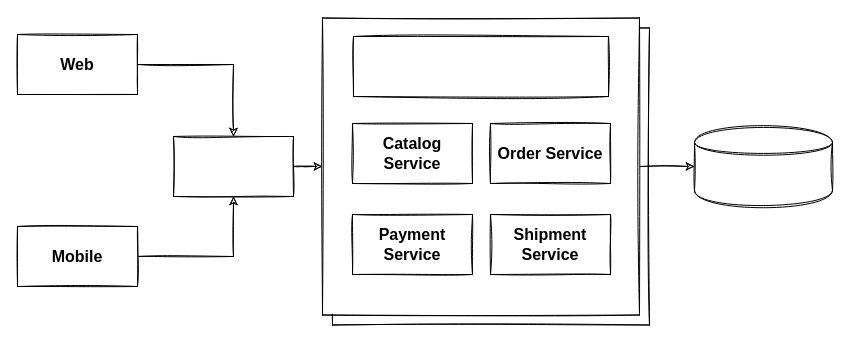
The diagram is 850 pixels wide and 342 high, and some of its shapes have lost their labels. Each missing label, with the box of its shape:
GUI: (352, 36, 608, 96)
Load Balancer: (172, 136, 294, 196)
RDBMS: (694, 126, 832, 206)
